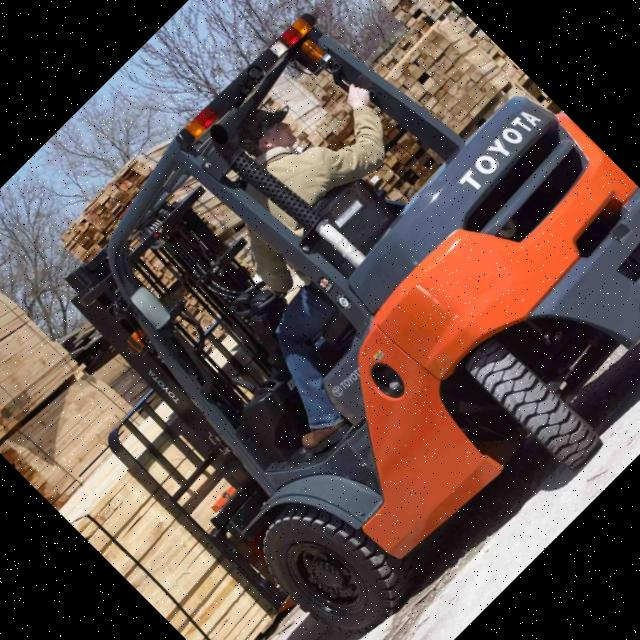Person: (109, 43, 528, 462)
